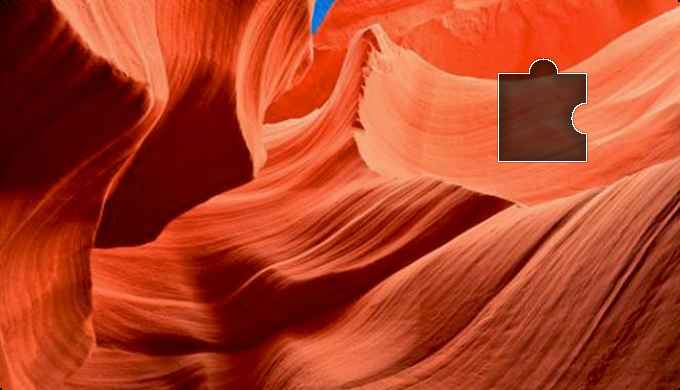gap: (498, 59, 586, 163)
